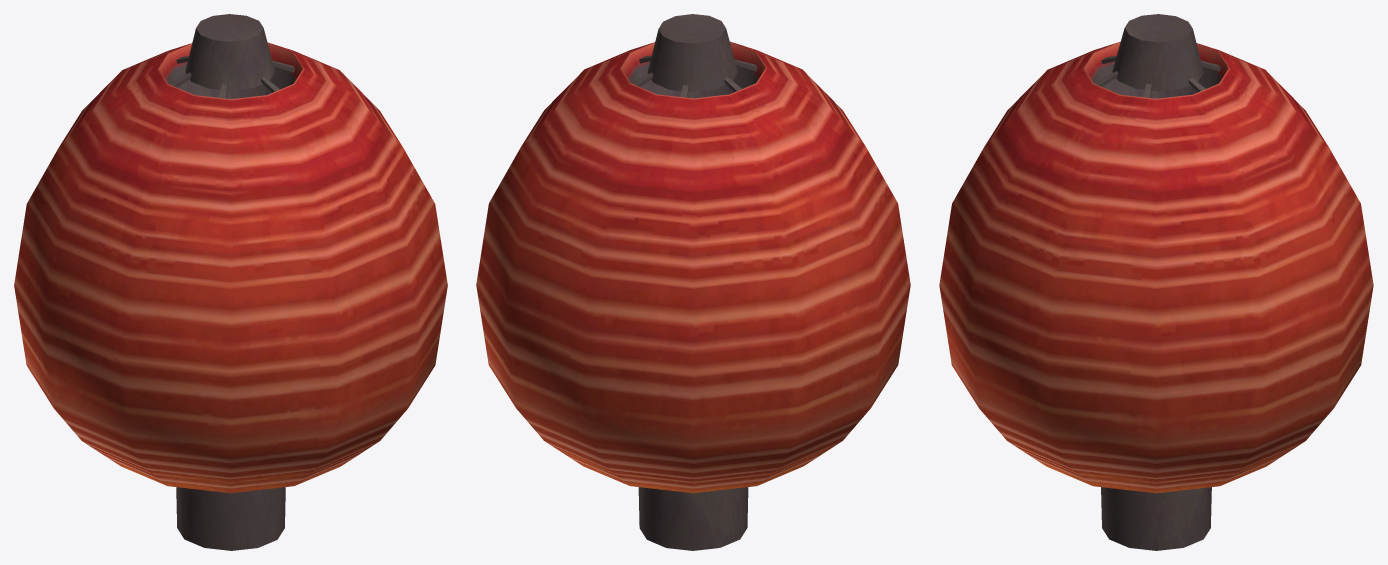
Rendered from asset.glb.
3 renders of one model, left to right at view 1: azimuth 30°, elevation 25°; view 2: azimuth 150°, elevation 25°; view 3: azimuth 270°, elevation 25°, orthographic.
Visible parts, largest first — view 1: node_id32; view 2: node_id32; view 3: node_id32.
Boxes of the visible parts, x1,y1,x2,y2 form: node_id32: (14, 14, 447, 550); node_id32: (476, 14, 910, 550); node_id32: (939, 14, 1373, 550).
Bounding box in the file's own units: 0.3981 × 0.512 × 0.3981.
1 material, 1 textured.
